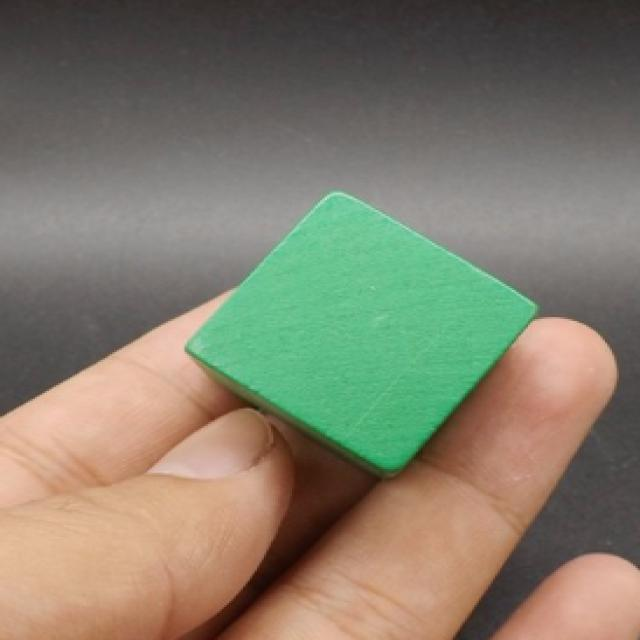green cube: (185, 191, 542, 482)
